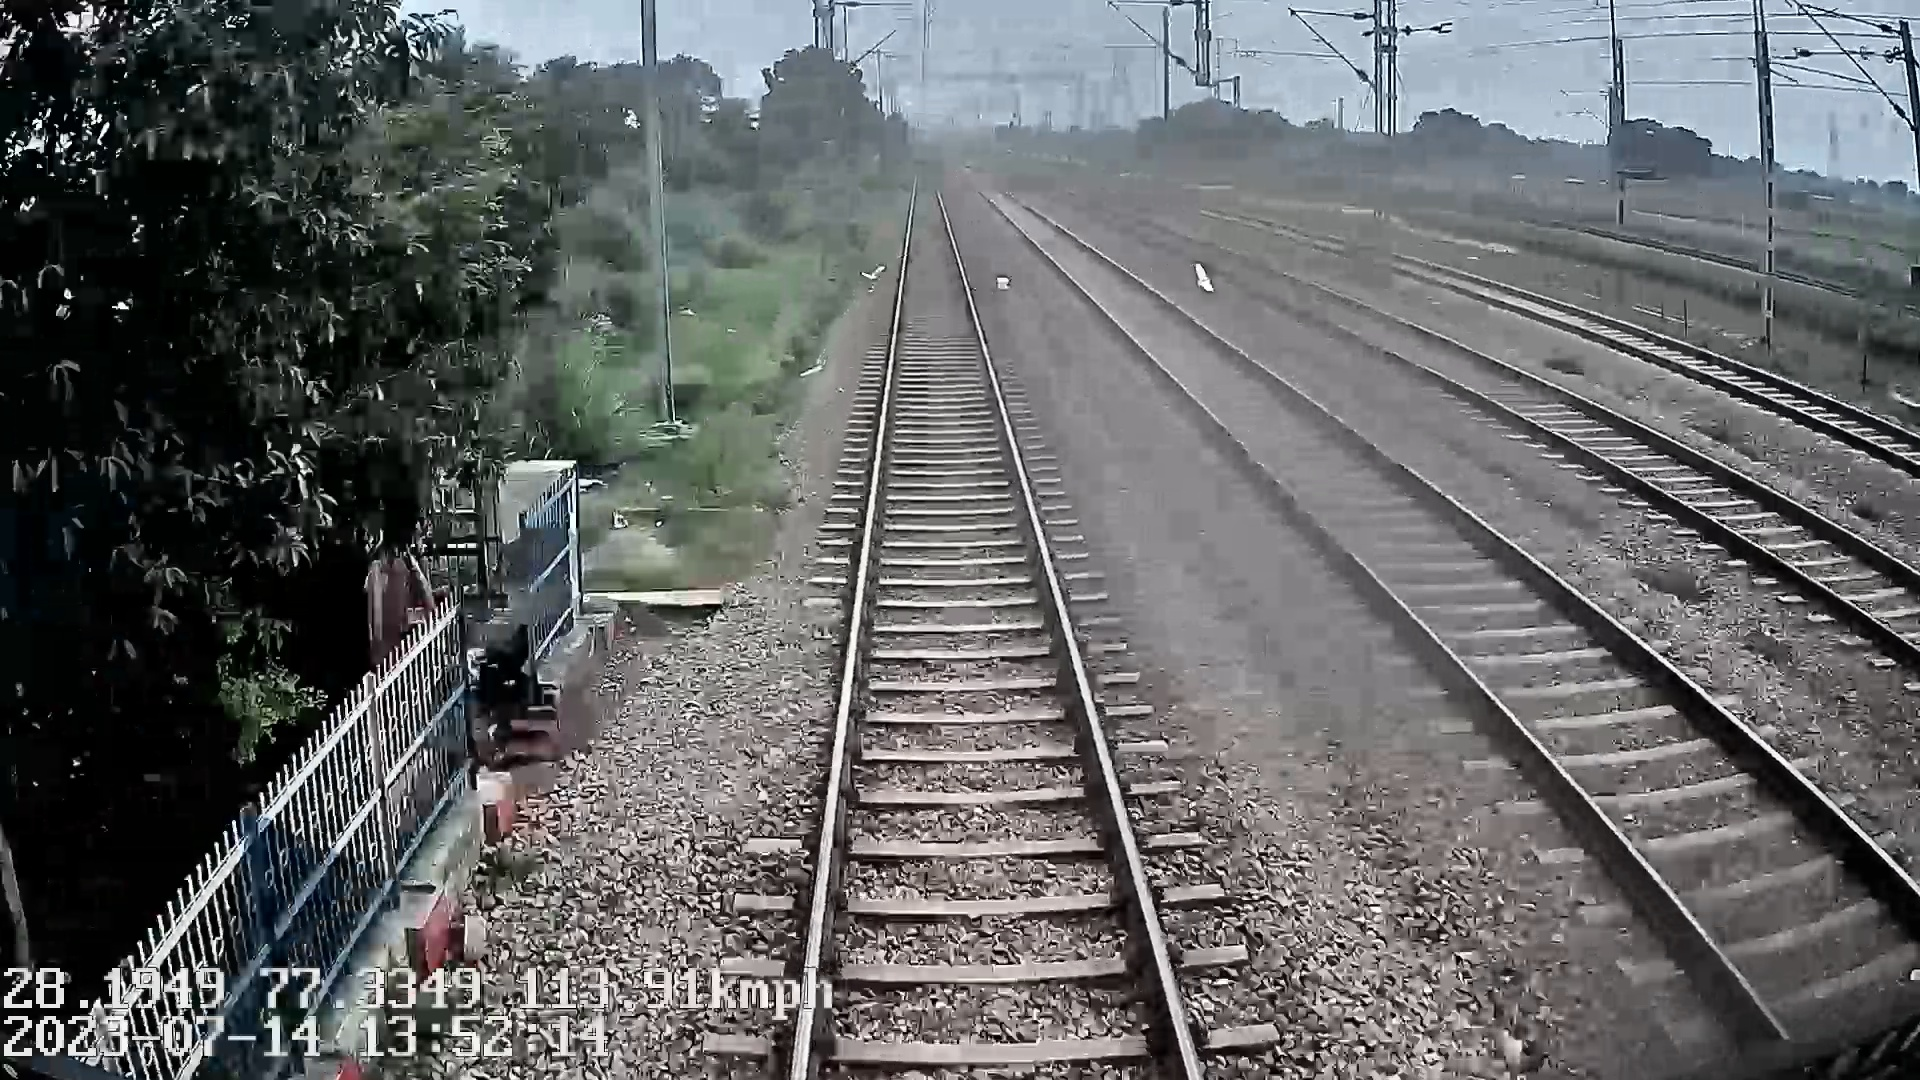track1: (796, 193, 1189, 1068)
track2: (985, 195, 1904, 993)
track3: (1300, 291, 1919, 637)
track4: (1398, 261, 1919, 456)
